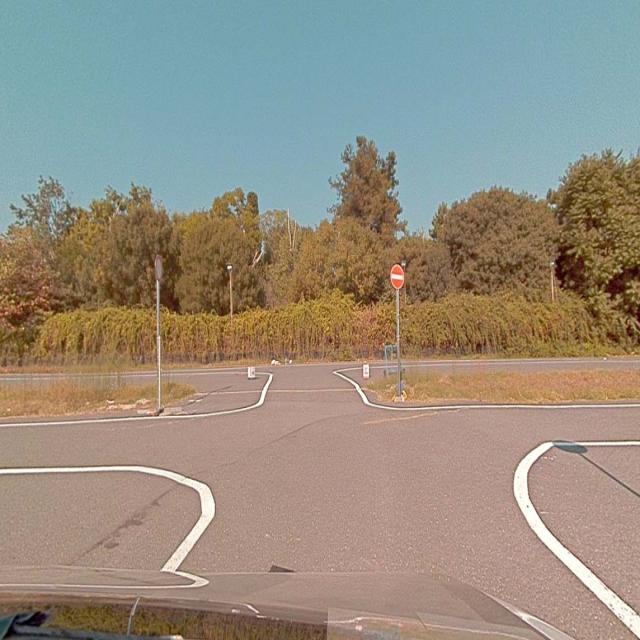girisyok: (390, 262, 405, 288)
